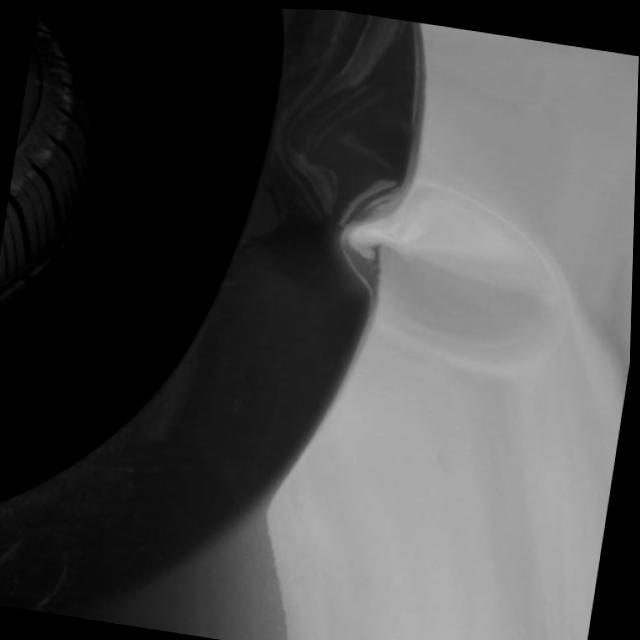Dent: (331, 187, 572, 377)
